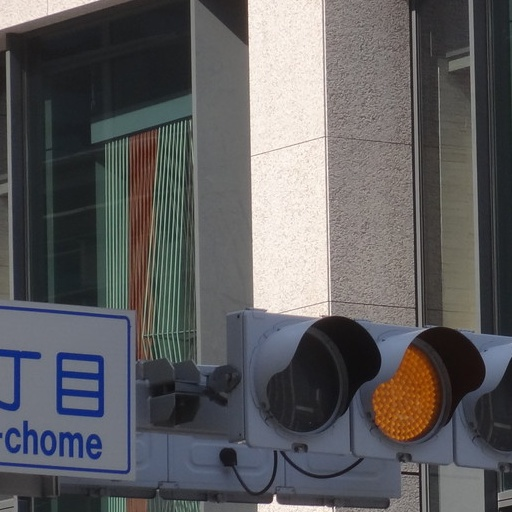Traffic_Signal_Yellow: (244, 314, 508, 461)
